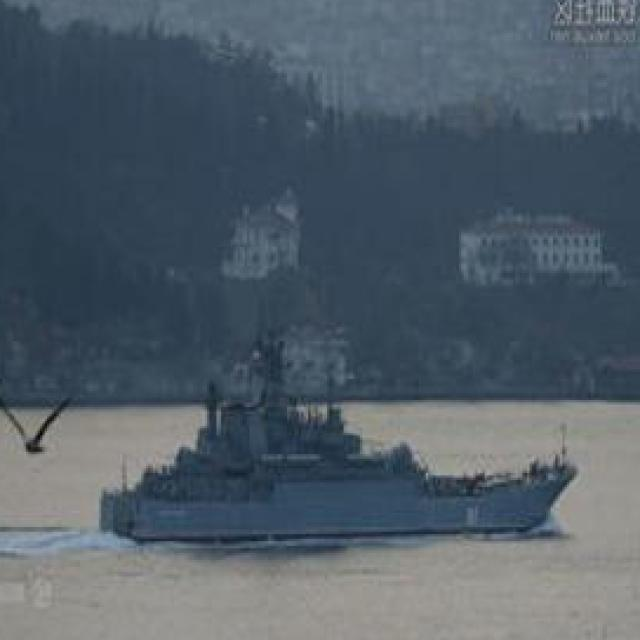navalvessels: (85, 341, 577, 557)
